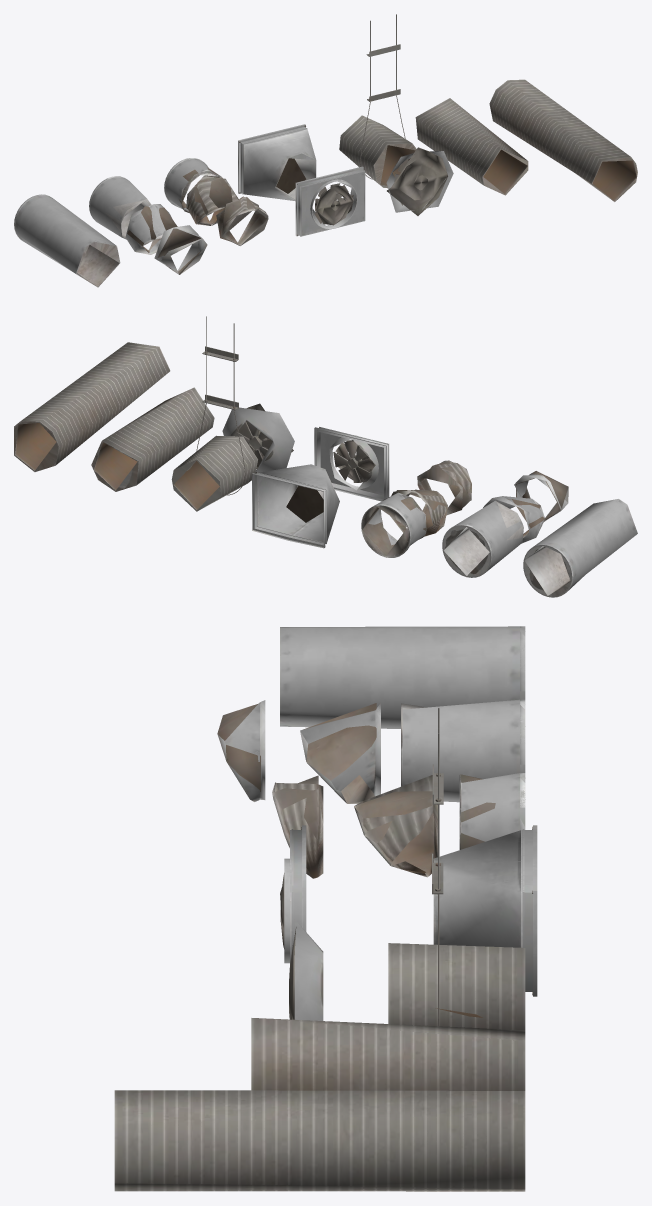
Rendered from modular_airduct_circular_01.glb.
3 renders of one model, top to bottom at view 1: azimuth 30°, elevation 25°; view 2: azimuth 150°, elevation 25°; view 3: azimuth 270°, elevation 25°, orthographic. The views are drawn at different scales.
Parts seen in each view (by area): view 1: modular_airduct_rectangular_vent_fan; view 2: modular_airduct_rectangular_vent_fan; view 3: modular_airduct_rectangular_vent_fan.
Boxes of the visible parts, left/top/right/bottom form: modular_airduct_rectangular_vent_fan: left=14, top=14, right=637, bottom=287; modular_airduct_rectangular_vent_fan: left=14, top=316, right=637, bottom=597; modular_airduct_rectangular_vent_fan: left=114, top=626, right=537, bottom=1191.
Size of the model in its own units: 4.17 by 1.32 by 1.46.
1 material, 1 textured.
